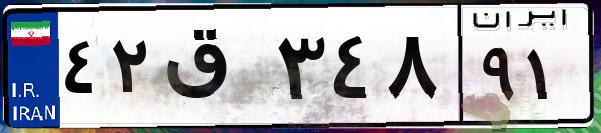1: (525, 38, 570, 115)
2: (110, 28, 158, 98)
3: (270, 28, 330, 110)
4: (330, 28, 385, 110), (57, 26, 110, 100)
8: (385, 28, 445, 110)
9: (475, 38, 525, 113)
ق: (158, 20, 270, 120)
